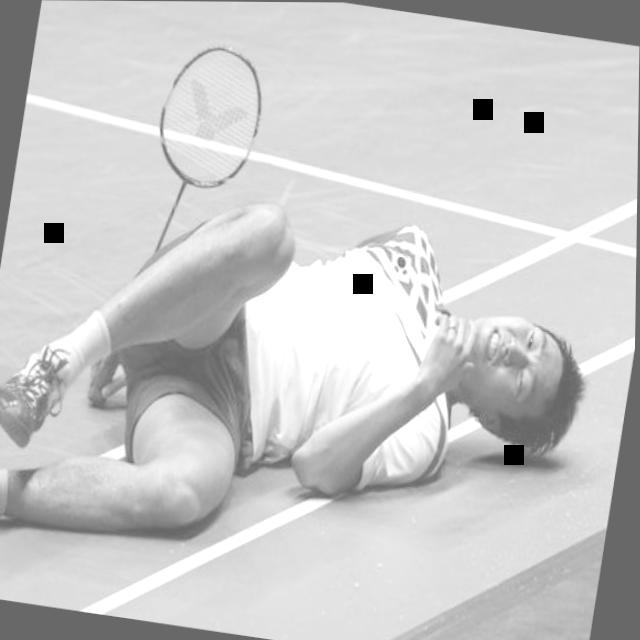Fall-Detected: (0, 116, 625, 626)
